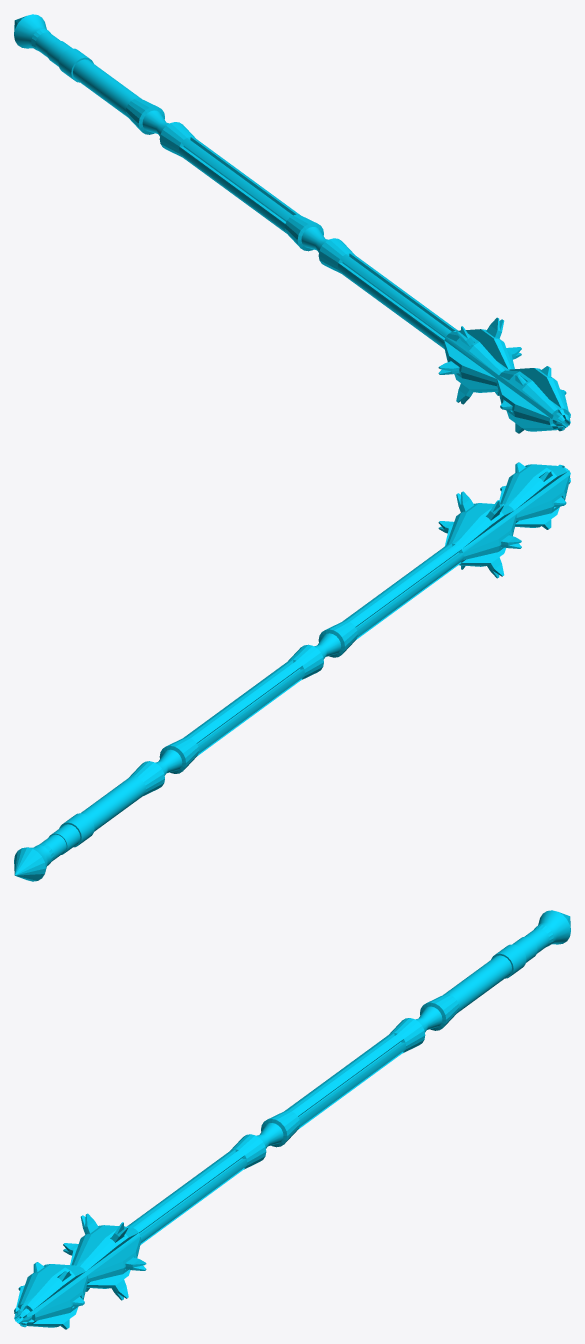
File: Club2.fbx
The picture shows the model from 3 angles, top to bottom: view 1: azimuth 30°, elevation 25°; view 2: azimuth 150°, elevation 25°; view 3: azimuth 330°, elevation 25°; orthographic projection.
Parts seen in each view (by area): view 1: SpearClub2_low; view 2: SpearClub2_low; view 3: SpearClub2_low.
Boxes of the visible parts, x1,y1,x2,y2 form: SpearClub2_low: (14, 14, 570, 433); SpearClub2_low: (14, 462, 570, 881); SpearClub2_low: (14, 910, 570, 1329).
Bounding box in the file's own units: 266 × 241 × 3101.
